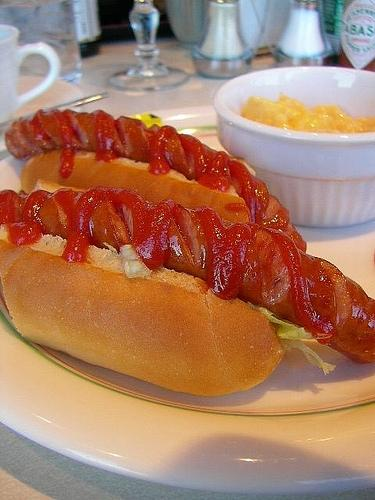onion: (120, 244, 152, 278)
